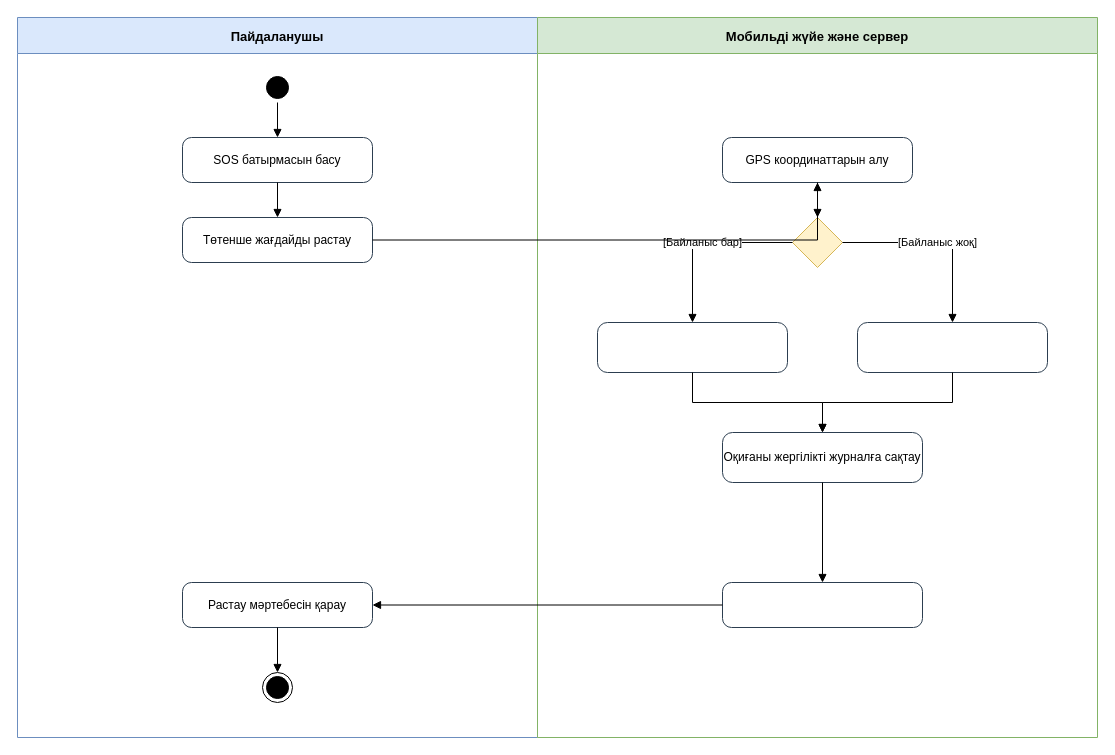
The diagram is 1115 pixels wide and 755 high, and some of its shapes have lost their labels. Here are the shapes that lost their labels. From the top down, the centre of each, then its label:
At (x=692, y=347): "SOS сигналын серверге жіберу".
At (x=952, y=347): "Резервтік SMS арқылы жіберу".
At (x=822, y=605): "Пайдаланушыға хабарлама көрсету".
